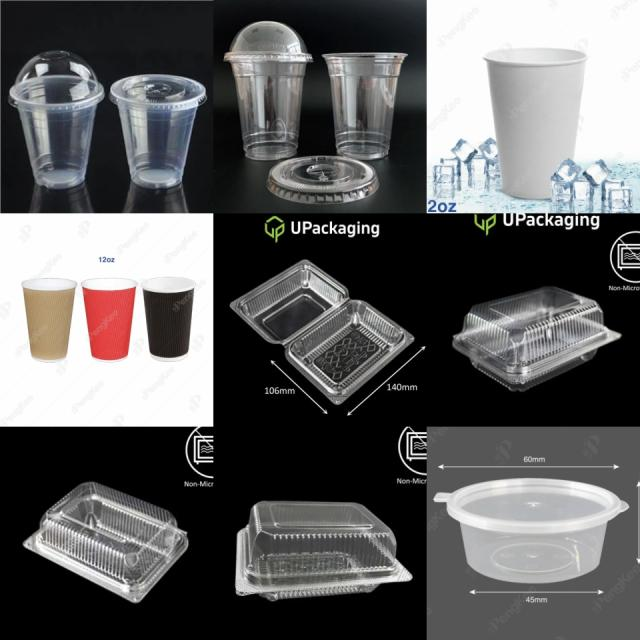Single-Use-Plastic: (230, 260, 414, 404), (434, 478, 629, 582), (24, 482, 189, 602), (452, 286, 620, 391), (235, 501, 411, 601), (484, 48, 588, 199), (9, 51, 104, 189), (224, 21, 312, 160), (110, 74, 206, 190), (322, 52, 406, 160), (266, 156, 379, 204), (21, 278, 78, 362), (81, 278, 138, 361), (142, 278, 195, 361)
